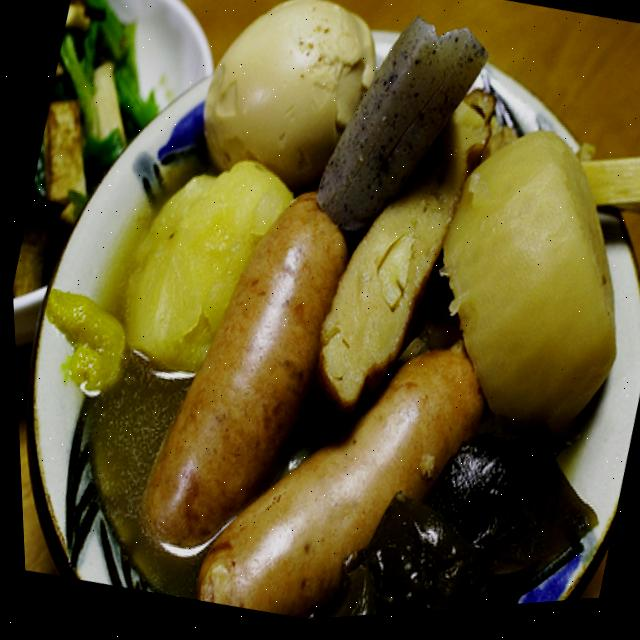汤锅炖物: (33, 0, 640, 638)
